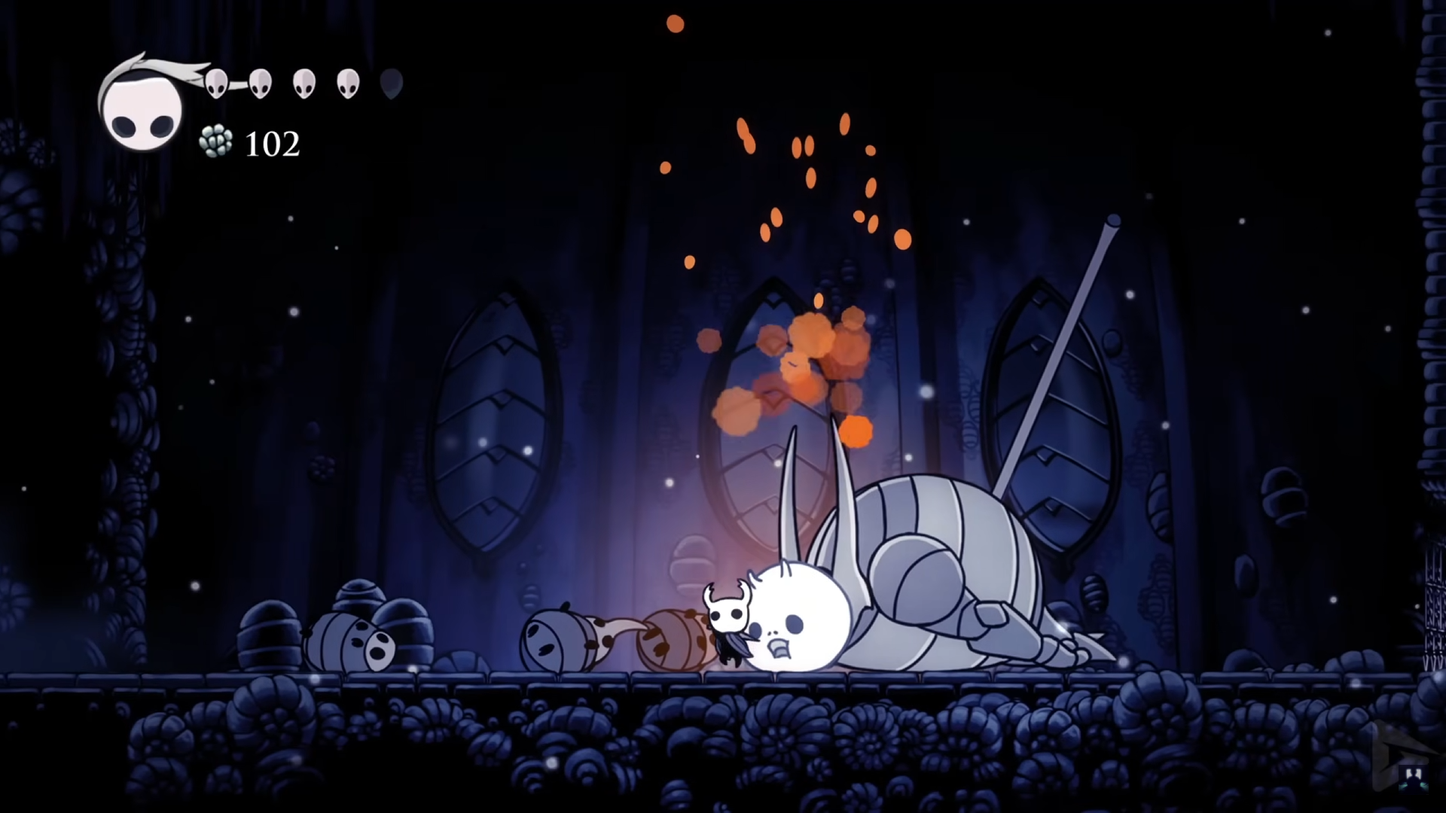HK: (696, 574, 754, 675)
